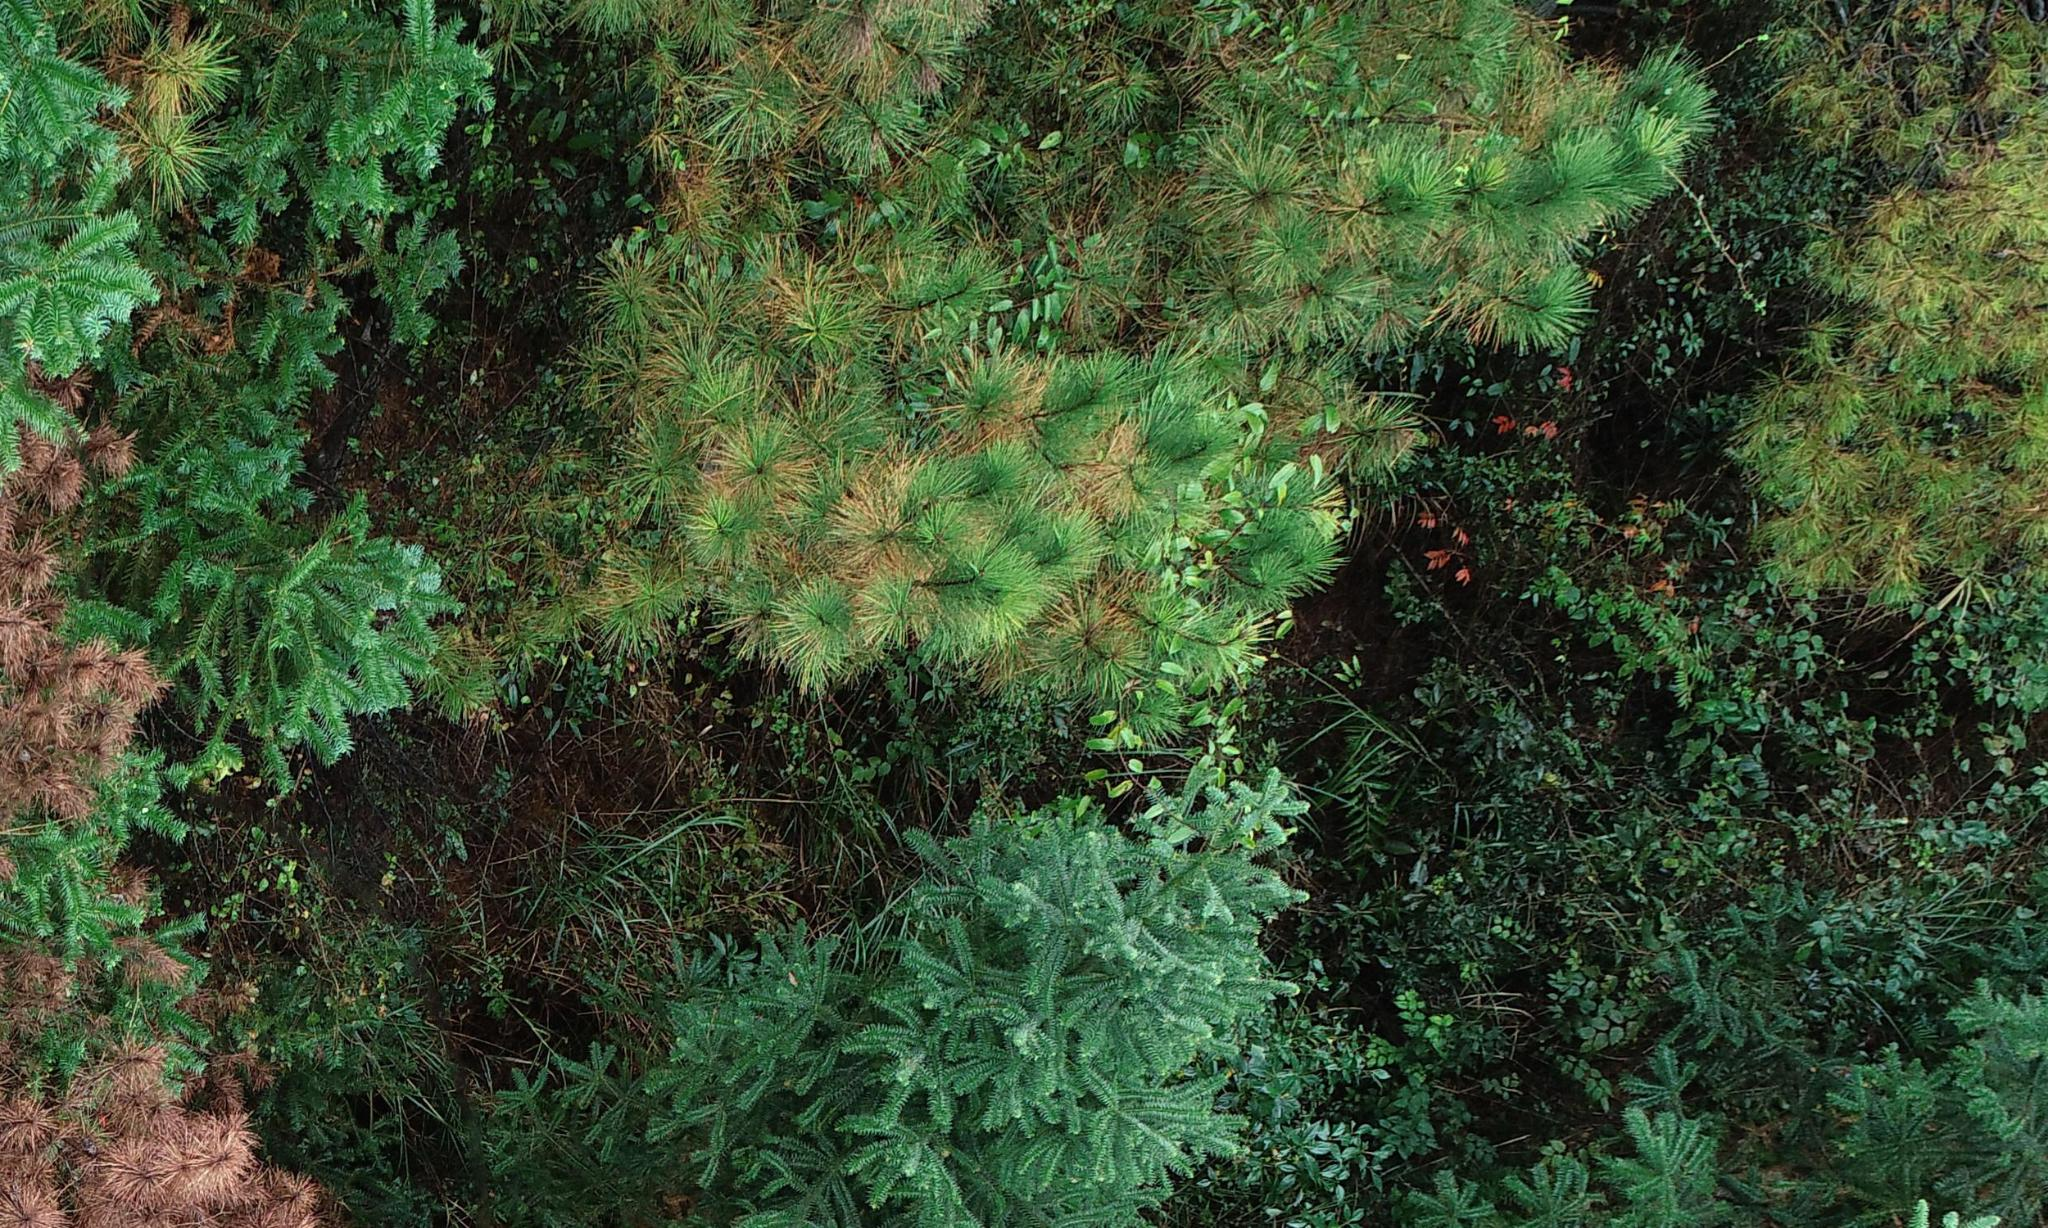heavy: (13, 946, 303, 1222), (12, 422, 143, 835)
light: (620, 18, 1142, 713), (1770, 95, 2020, 621)
